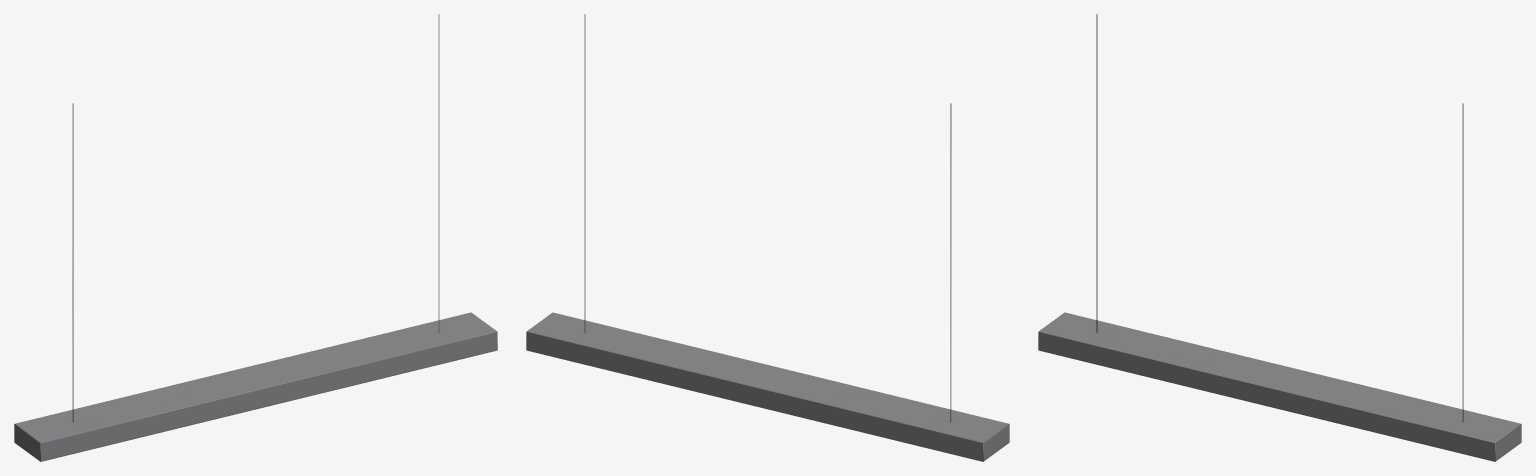
The model's file is LineLight.fbx.
3 views of the same model, side by side, from view 1: azimuth 30°, elevation 25°; view 2: azimuth 150°, elevation 25°; view 3: azimuth 330°, elevation 25° (orthographic).
Visible parts, largest first — view 1: LineLight_LOD0; view 2: LineLight_LOD0; view 3: LineLight_LOD0.
Boxes of the visible parts, x1,y1,x2,y2 form: LineLight_LOD0: (14, 14, 497, 461); LineLight_LOD0: (526, 14, 1009, 461); LineLight_LOD0: (1038, 14, 1521, 461).
Size of what is drawn, in the model's own units: 1.5 by 1.07 by 0.15.
Materials: 1 (1 with a texture image).
